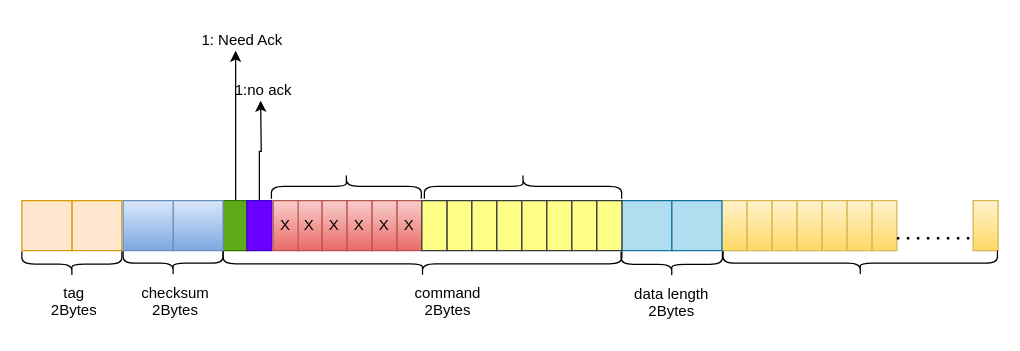
Image size: 1020x351. Some labels were removed from this diagram. Each missing label, with the centre of its shape:
command idx:2^8=256: (522,185)
data 0~N Bytes: (860,263)
type:2^6=64: (345,185)
